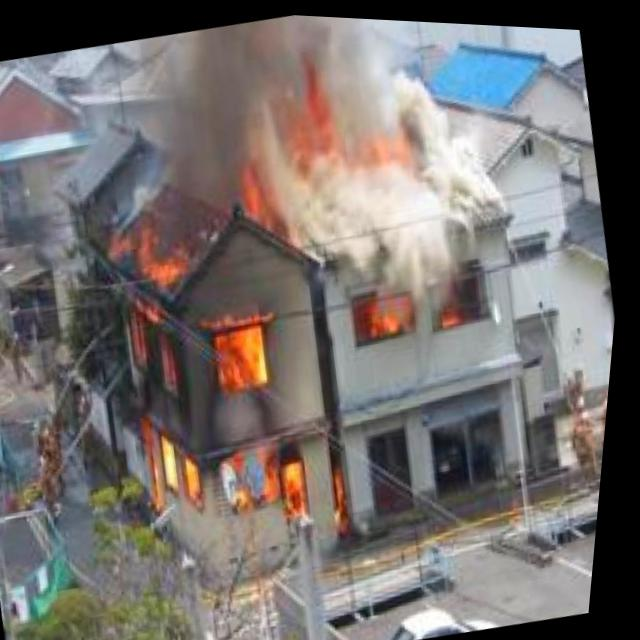Fire: (85, 188, 345, 549), (289, 74, 414, 177), (361, 289, 419, 341)
